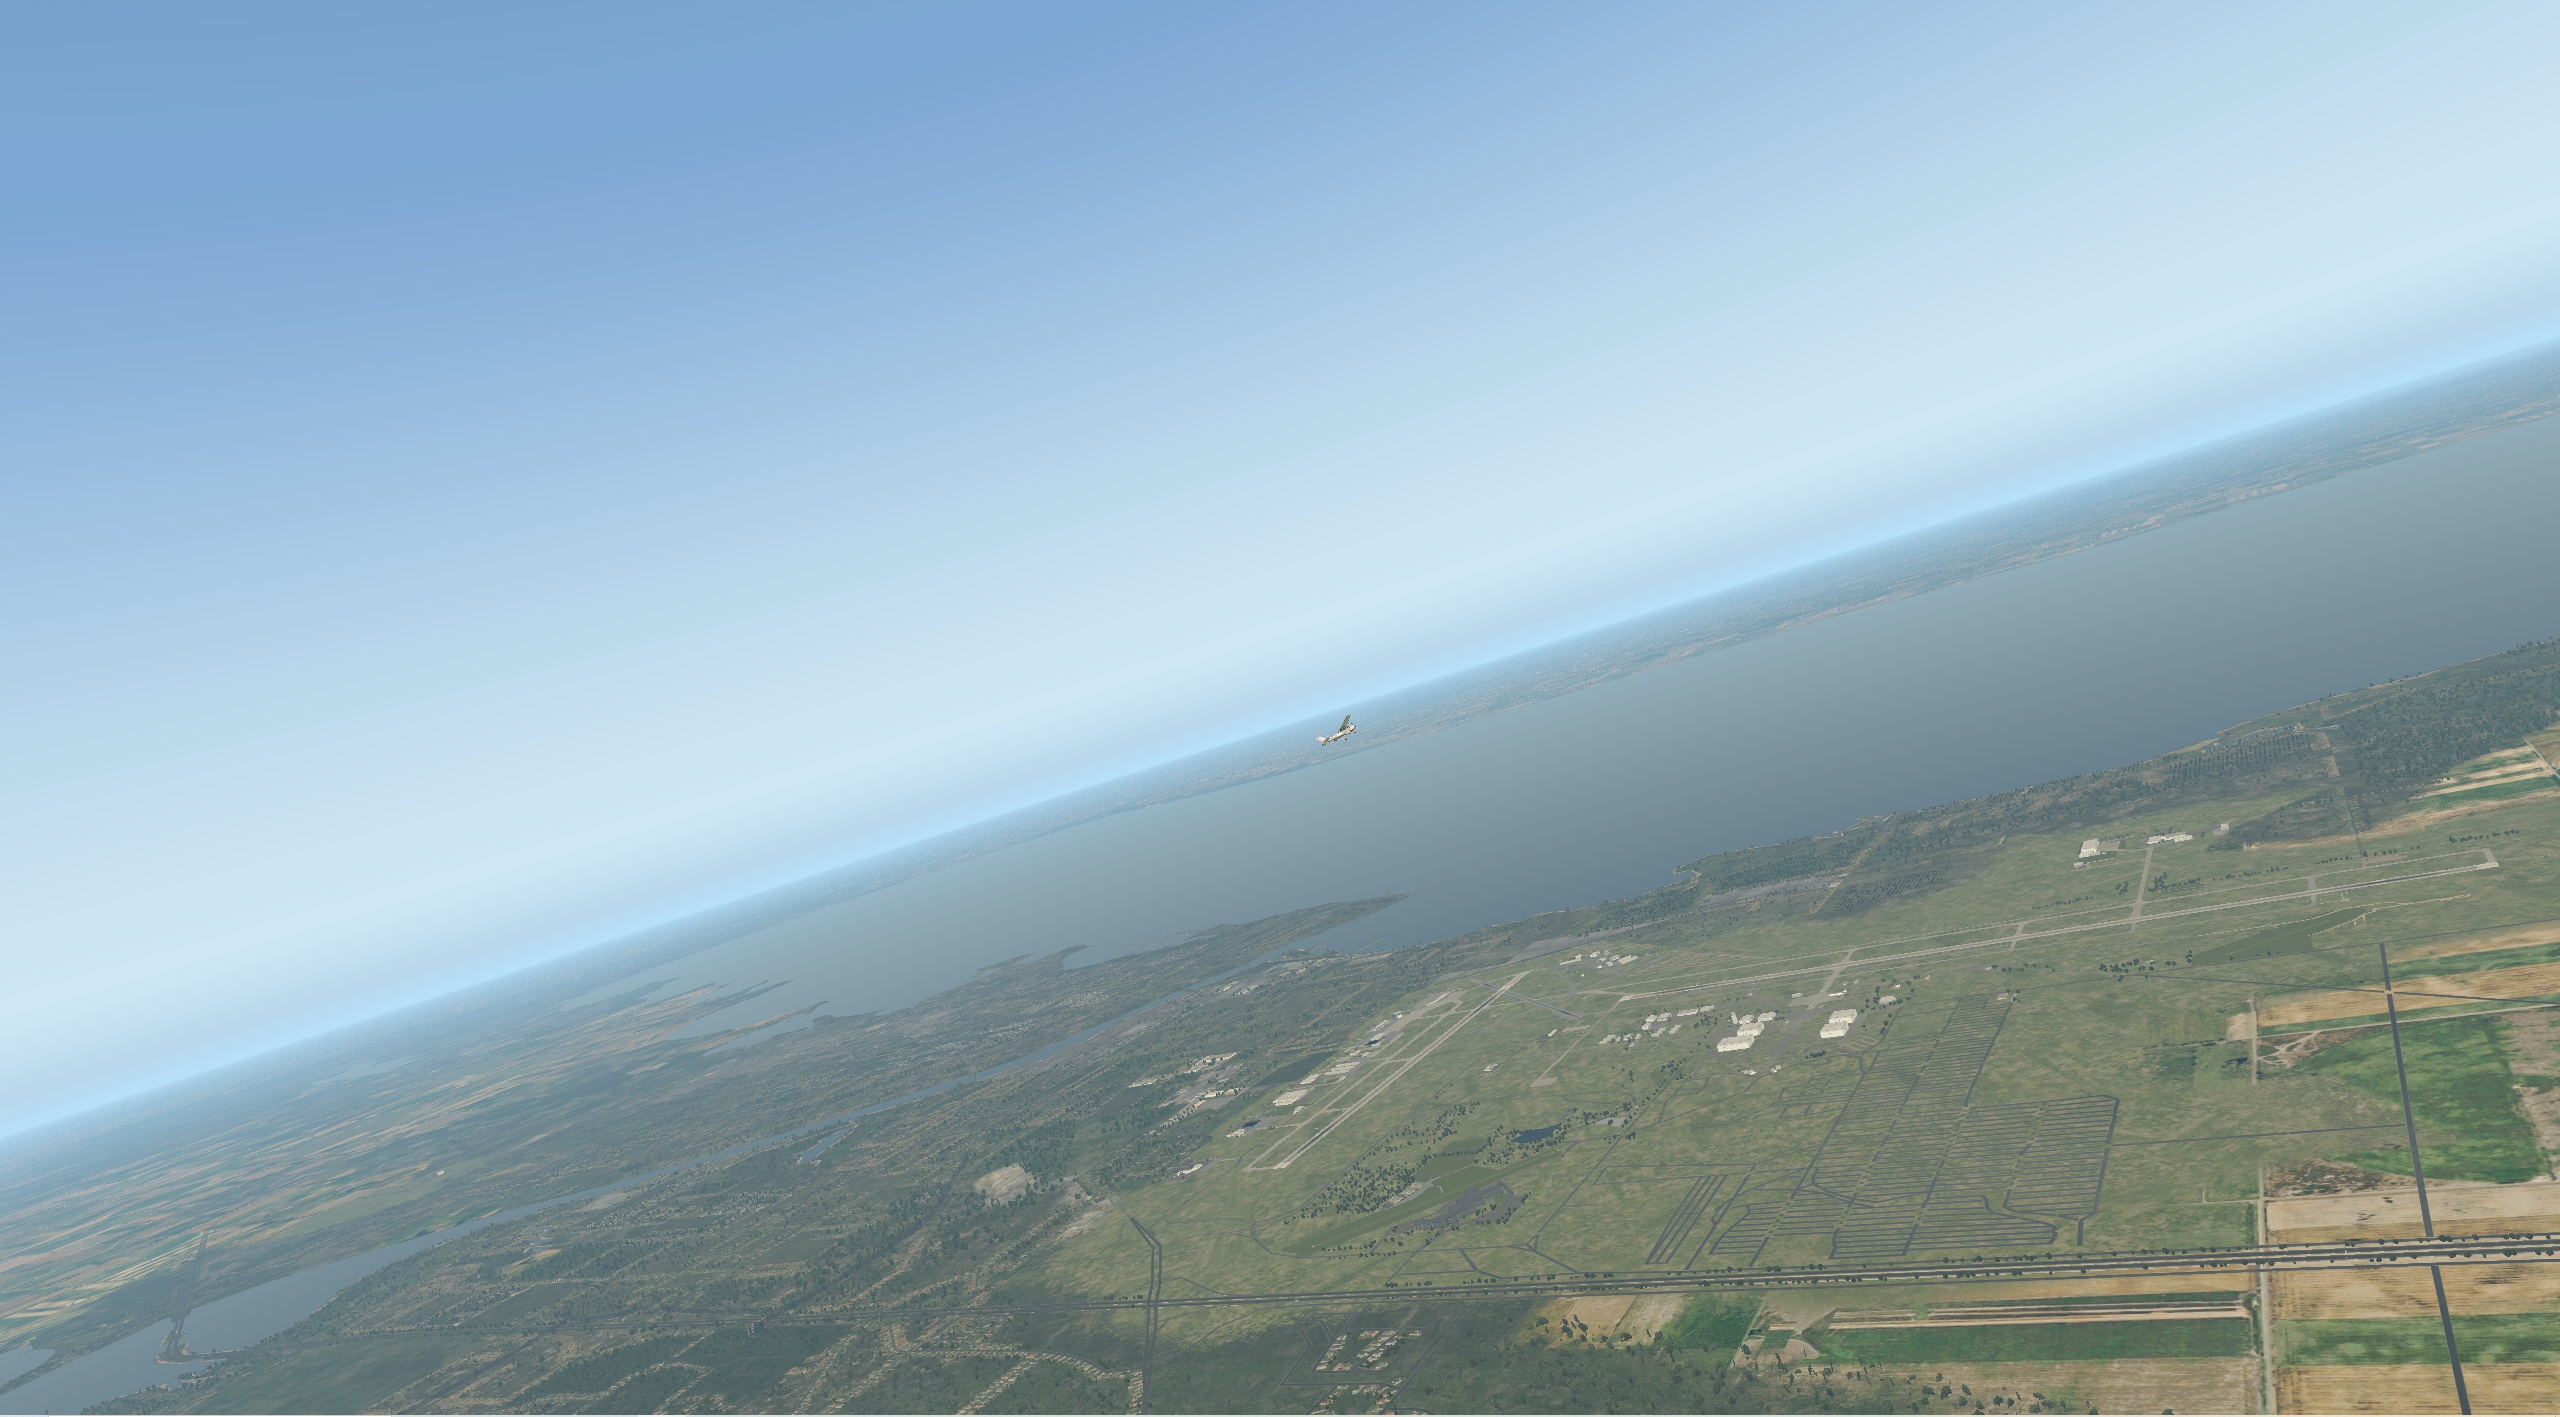aircraft: (1311, 717, 1380, 743)
